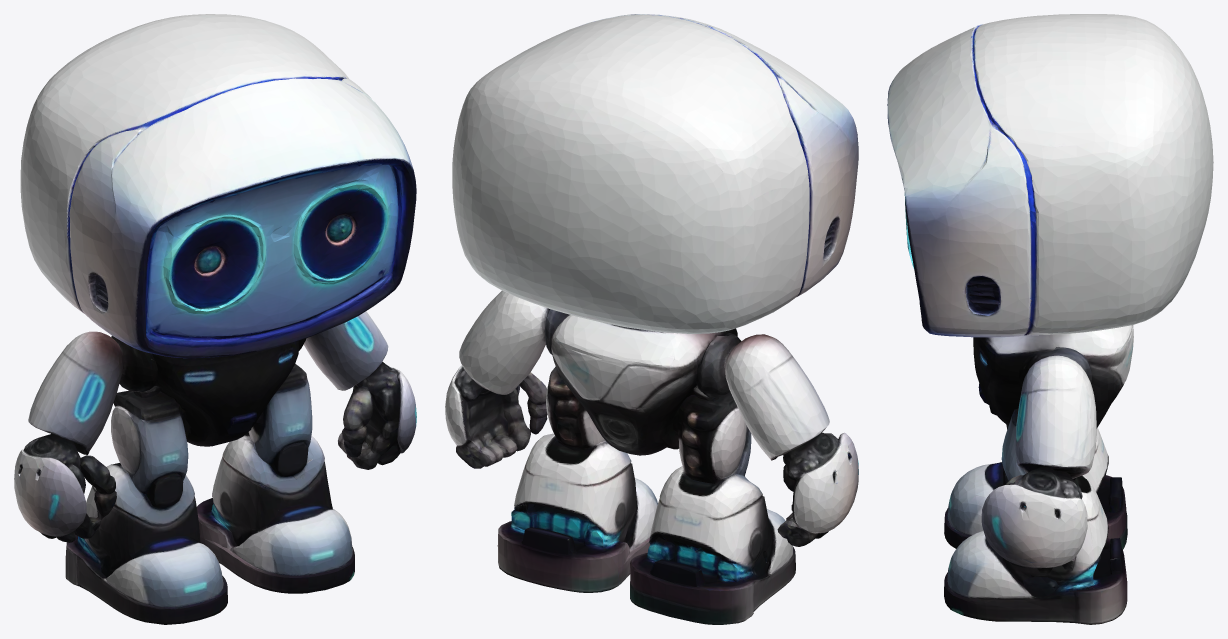
Rendered from robot-c.glb.
3 views of the same model, side by side, from view 1: azimuth 30°, elevation 25°; view 2: azimuth 150°, elevation 25°; view 3: azimuth 270°, elevation 25° (orthographic). The views are drawn at different scales.
Visible parts, largest first — view 1: geometry_0; view 2: geometry_0; view 3: geometry_0.
Part boxes in pixels (x1=…): geometry_0: x1=14, y1=14, x2=416, y2=624; geometry_0: x1=445, y1=14, x2=858, y2=624; geometry_0: x1=887, y1=14, x2=1213, y2=624.
Size of the model in its own units: 0.7631 by 1 by 0.5594.
1 material, 1 textured.
